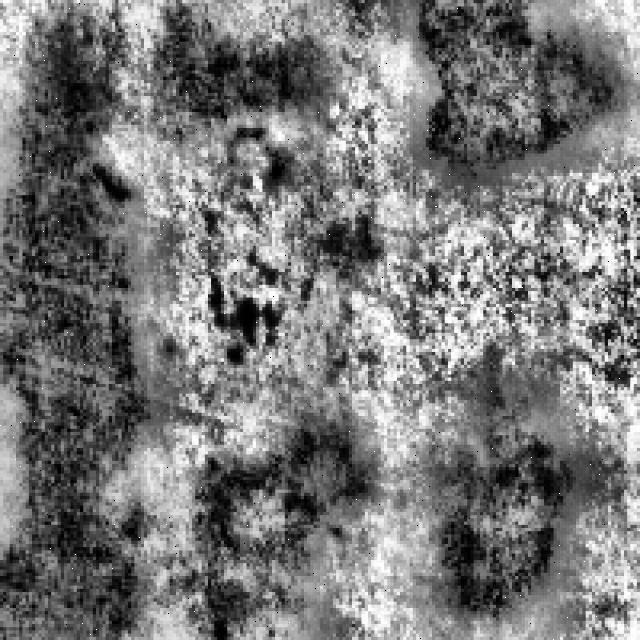Scratches: (4, 29, 150, 634), (192, 403, 381, 614), (419, 0, 627, 176), (435, 374, 579, 612), (150, 0, 330, 131)
